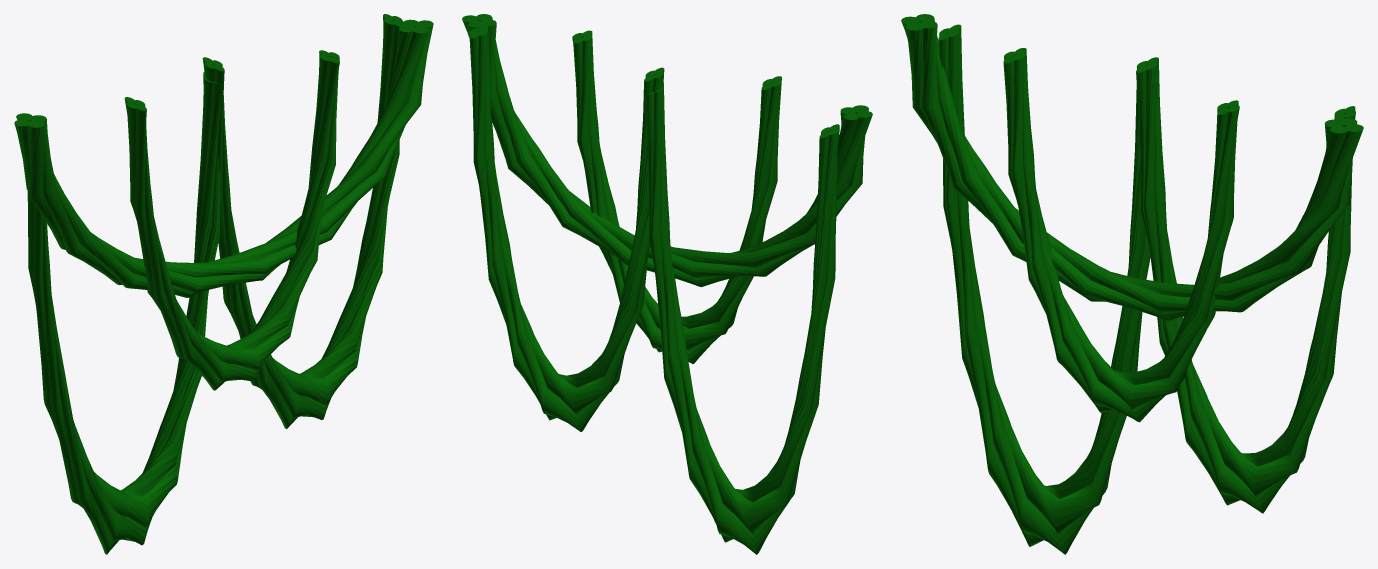
Rendered from Vines.obj.
3 views of the same model, side by side, from view 1: azimuth 30°, elevation 25°; view 2: azimuth 150°, elevation 25°; view 3: azimuth 330°, elevation 25° (orthographic). The views are drawn at different scales.
Visible parts, largest first — view 1: Vines1; view 2: Vines1; view 3: Vines1.
Part boxes in pixels (x1,y1,x2,y2): Vines1: (14,14,433,554); Vines1: (462,14,872,554); Vines1: (901,14,1363,554).
Bounding box in the file's own units: 10.55 × 11.21 × 1.76.
